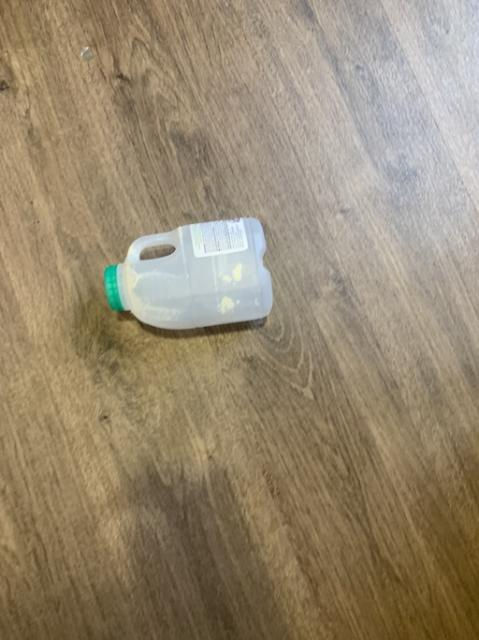plastic: (103, 217, 271, 327)
